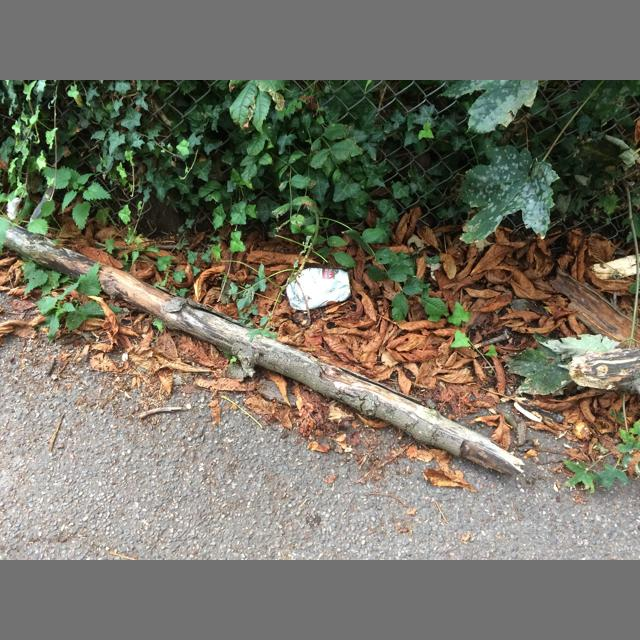litter: (286, 267, 352, 310)
